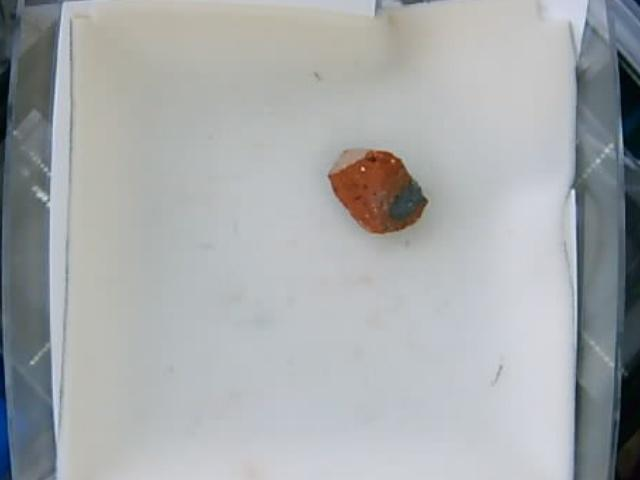Brisk: (331, 150, 428, 236)
